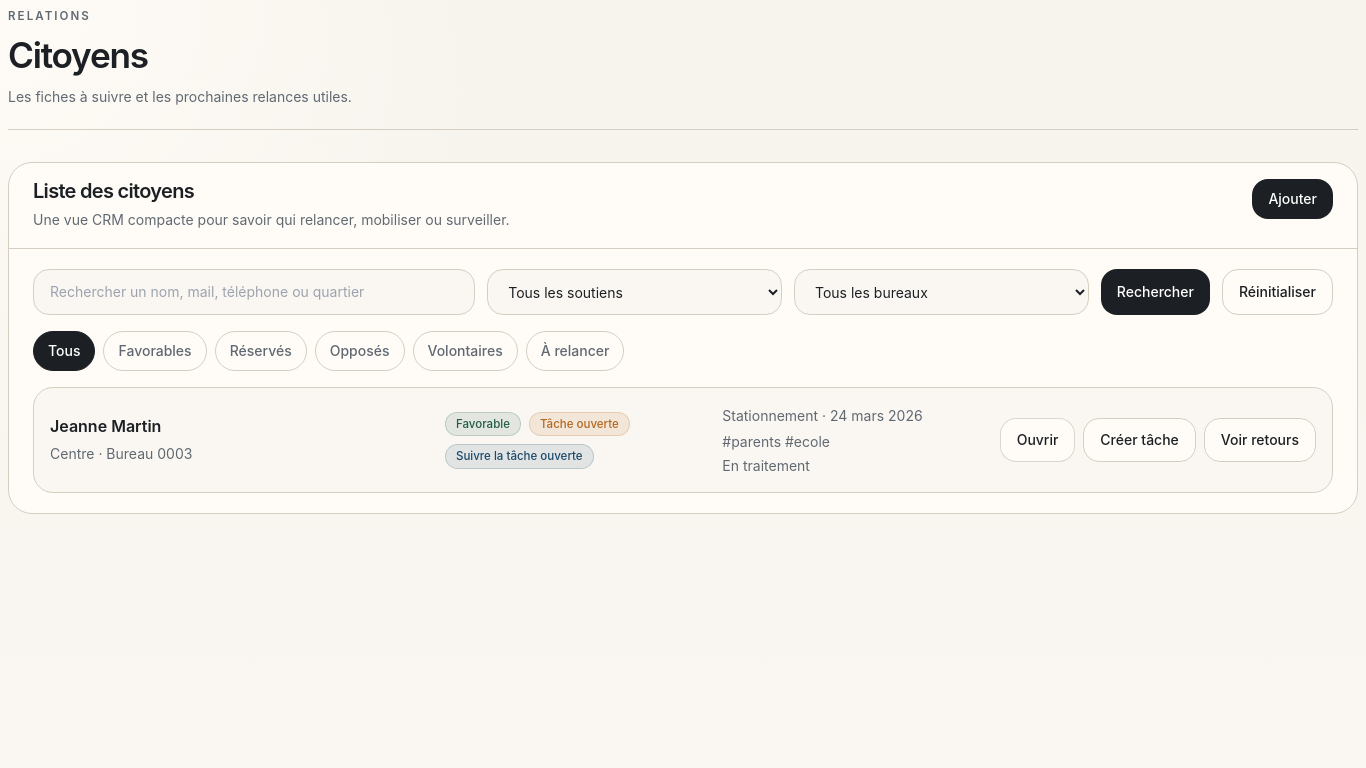
Test: CitizensPage › affiche une liste CRM compacte et ouvre le détail secondaire
Expected: the heading "Citoyens" is shown, [8,34,148,76]
Expected: the heading "Liste des citoyens" is shown, [33,179,194,203]
Click the button "Ouvrir".
click(1038, 440)  # box [1000,418,1075,462]
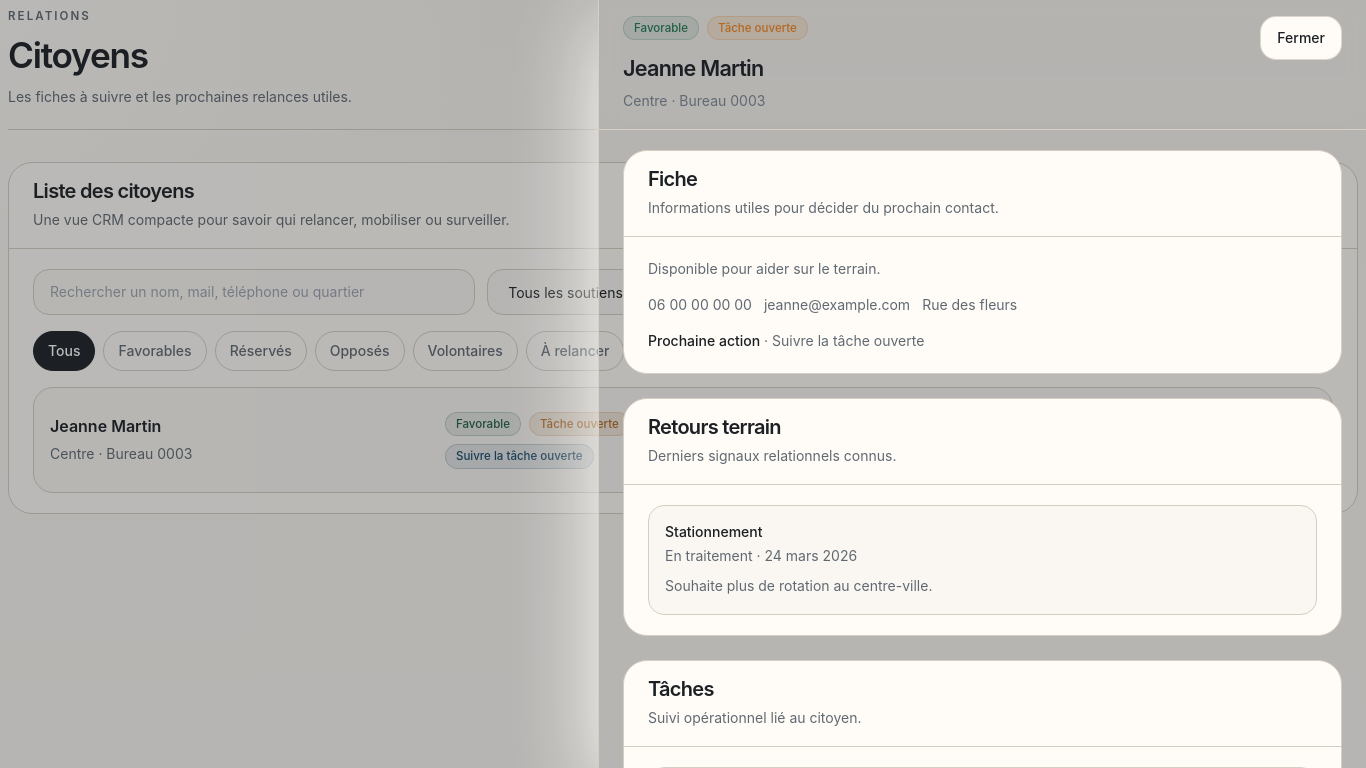
Now the heading "Jeanne Martin" is shown, box [623,55,764,81]
Now the text "Disponible pour aider sur le terrain." is shown, box [648,260,880,277]
